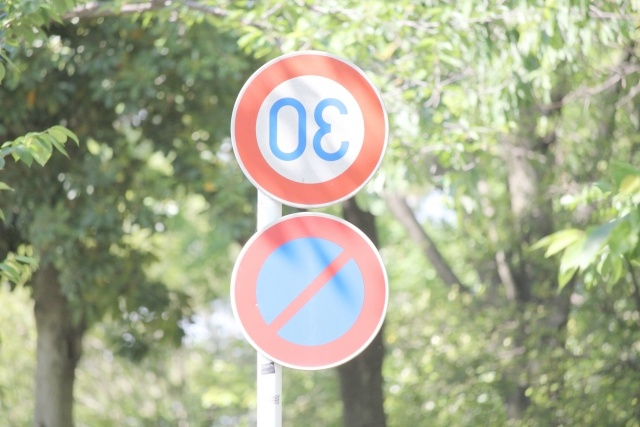Prohibition_sign: (223, 204, 394, 388)
